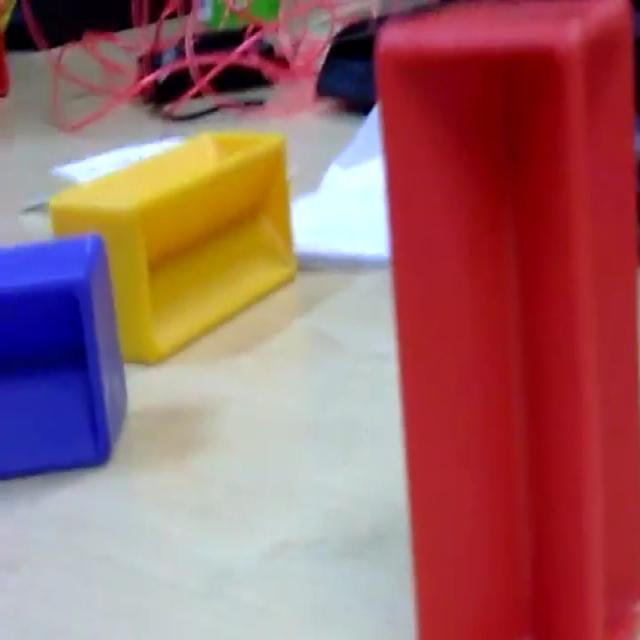blue_block: (0, 232, 128, 480)
red_block: (372, 1, 638, 636)
yellow_block: (47, 128, 297, 364)
